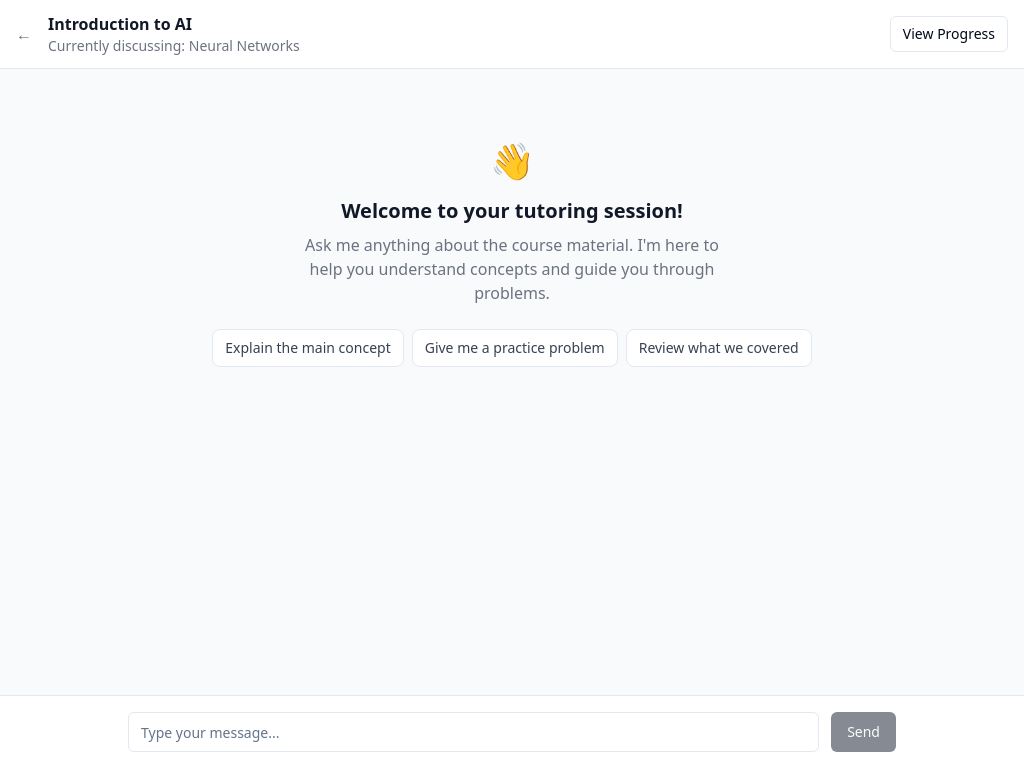
TutorSession › input form › should enable send button when input has text
Type "Hello" into the field with placeholder "Type your message..." at (474,732), box [128,712,819,752]
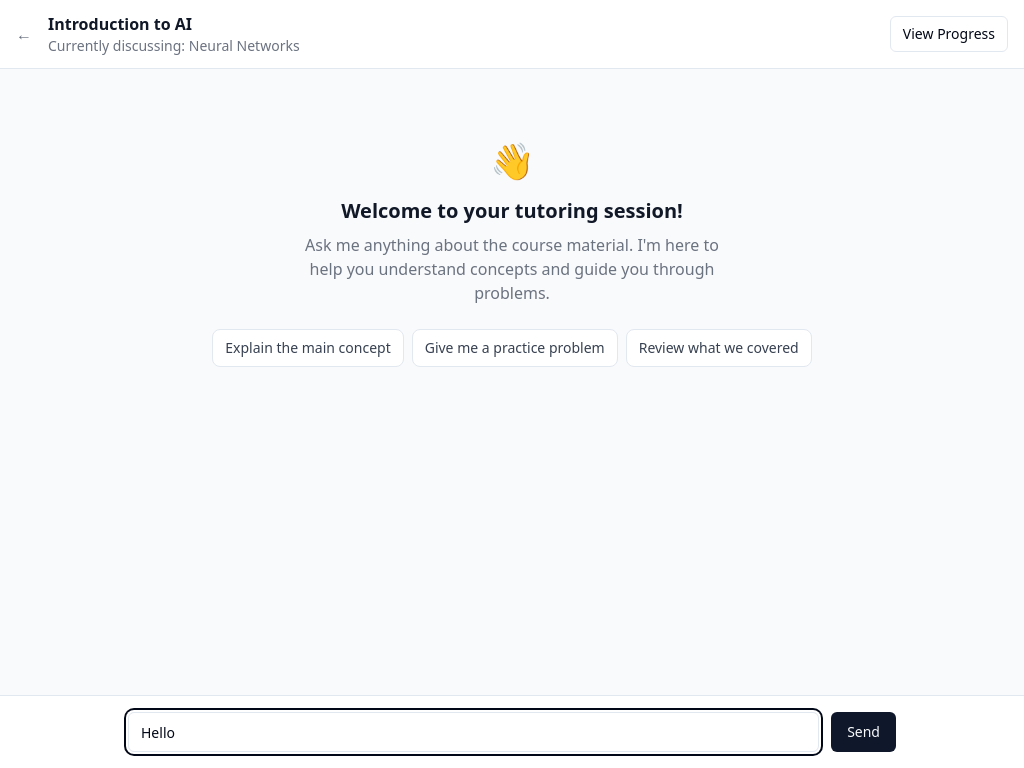
Now the button "Send" is enabled, box [831,712,896,752]
